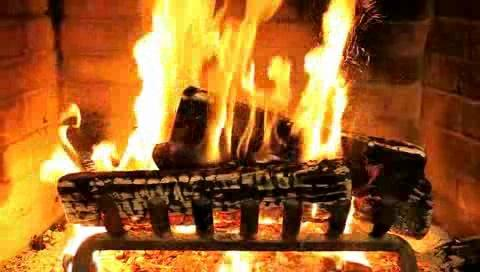fire: (129, 0, 370, 170)
